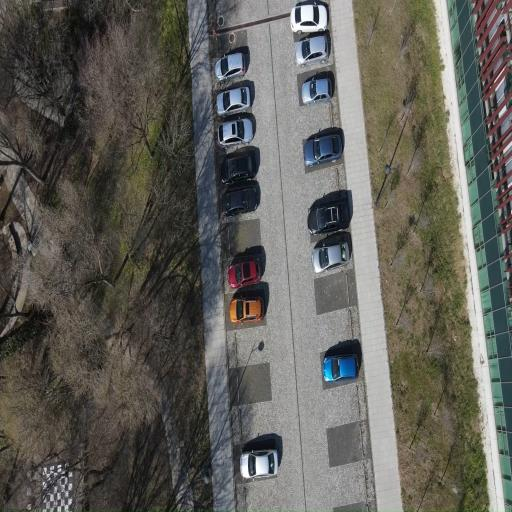person: (307, 199, 350, 235), (304, 134, 342, 166), (311, 242, 350, 273), (291, 3, 327, 34), (240, 450, 278, 478), (221, 153, 256, 183), (222, 186, 257, 216), (296, 36, 328, 67), (228, 259, 261, 289), (218, 119, 253, 147), (217, 87, 250, 116), (323, 355, 358, 381), (215, 52, 246, 81), (230, 297, 263, 323), (302, 78, 331, 105)
